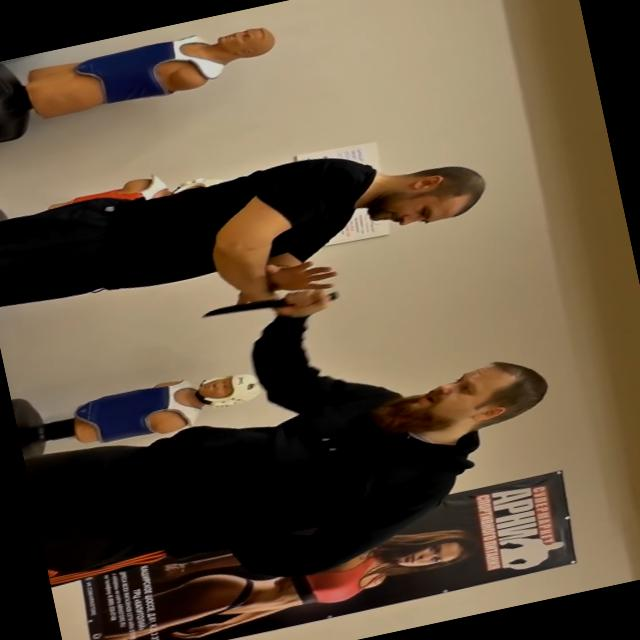knife: (194, 276, 346, 332)
